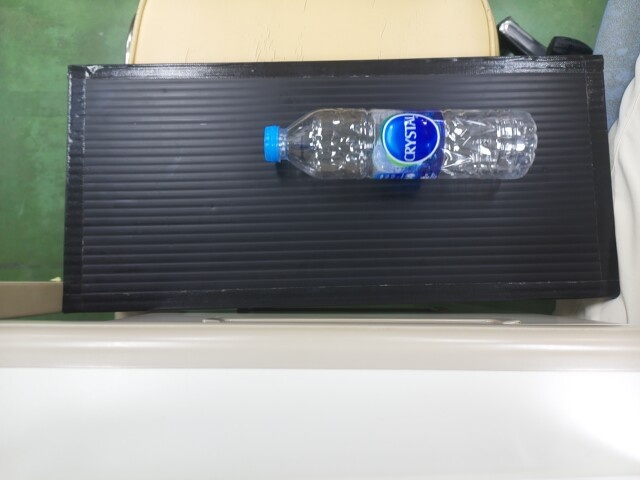plastic_bottle: (256, 105, 538, 181)
